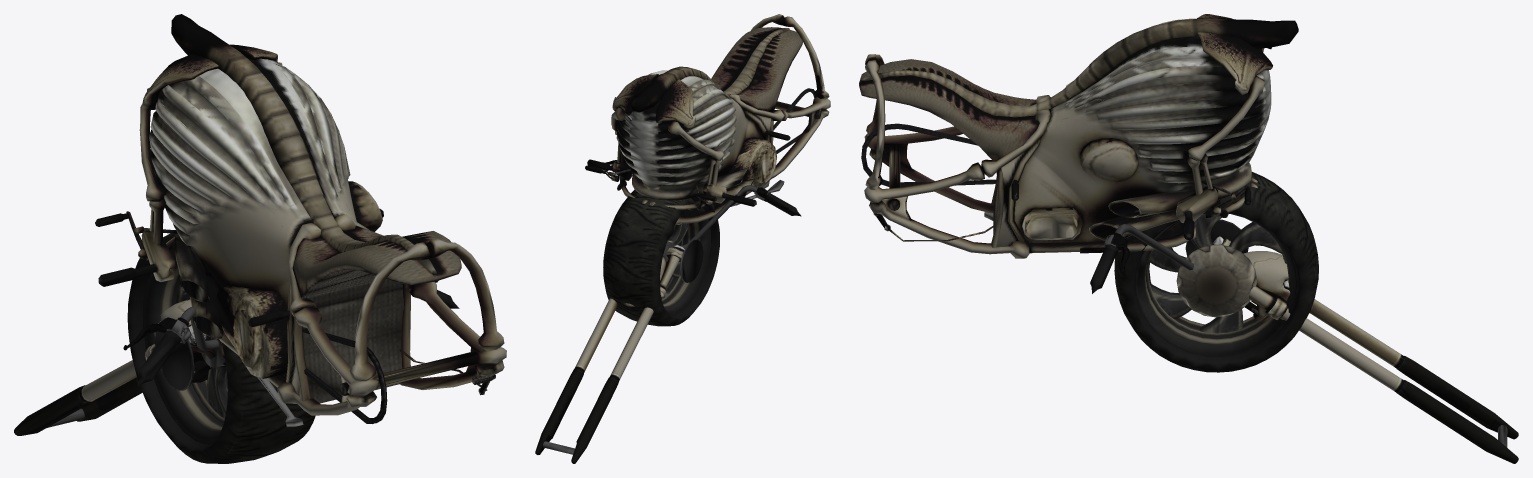
File: GhostRider.fbx
The picture shows the model from 3 angles, left to right: view 1: azimuth 30°, elevation 25°; view 2: azimuth 150°, elevation 25°; view 3: azimuth 270°, elevation 25°; orthographic projection. The views are drawn at different scales.
Parts seen in each view (by area): view 1: gr_Body, gr_WheelRear, gr_Seat, gr_FenderRear, gr_Muffler, gr_Fork, gr_RearSuspension, gr_Steering, gr_GasTank, gr_WheelFront, gr_DiscRear; view 2: gr_Body, gr_WheelRear, gr_Fork, gr_FenderRear, gr_Seat, gr_GasTank, gr_Muffler, gr_Steering, gr_RearSuspension, gr_DiscRear, gr_WheelFront; view 3: gr_Body, gr_WheelRear, gr_Fork, gr_FenderRear, gr_Seat, gr_GasTank, gr_Steering, gr_Muffler, gr_Headlight, gr_RearSuspension, gr_WheelFront, gr_BrakeRear.
Part boxes in pixels (left/top/right/bottom): gr_Body: left=95, top=58, right=506, bottom=426; gr_WheelRear: left=127, top=233, right=315, bottom=463; gr_Seat: left=171, top=14, right=437, bottom=275; gr_FenderRear: left=292, top=225, right=461, bottom=298; gr_Muffler: left=215, top=285, right=287, bottom=378; gr_Fork: left=14, top=324, right=225, bottom=435; gr_RearSuspension: left=349, top=238, right=504, bottom=381; gr_Steering: left=123, top=290, right=459, bottom=386; gr_GasTank: left=142, top=44, right=282, bottom=109; gr_WheelFront: left=176, top=283, right=227, bottom=423; gr_DiscRear: left=155, top=318, right=194, bottom=390; gr_Body: left=585, top=70, right=830, bottom=224; gr_WheelRear: left=603, top=189, right=719, bottom=326; gr_Fork: left=535, top=247, right=683, bottom=463; gr_FenderRear: left=711, top=27, right=802, bottom=112; gr_Seat: left=629, top=28, right=789, bottom=112; gr_GasTank: left=612, top=74, right=695, bottom=129; gr_Muffler: left=728, top=137, right=776, bottom=187; gr_Steering: left=603, top=160, right=801, bottom=250; gr_RearSuspension: left=751, top=14, right=829, bottom=99; gr_DiscRear: left=680, top=239, right=703, bottom=282; gr_WheelFront: left=662, top=223, right=691, bottom=302; gr_Body: left=861, top=18, right=1271, bottom=258; gr_WheelRear: left=1114, top=172, right=1318, bottom=372; gr_Fork: left=1221, top=237, right=1518, bottom=463; gr_FenderRear: left=859, top=59, right=1039, bottom=161; gr_Seat: left=860, top=18, right=1298, bottom=117; gr_GasTank: left=1197, top=14, right=1272, bottom=95; gr_Steering: left=1090, top=224, right=1289, bottom=314; gr_Muffler: left=1022, top=207, right=1082, bottom=240; gr_Headlight: left=1243, top=251, right=1312, bottom=318; gr_RearSuspension: left=865, top=54, right=885, bottom=189; gr_WheelFront: left=1146, top=222, right=1286, bottom=336; gr_BrakeRear: left=872, top=196, right=995, bottom=241.
Bounding box in the file's own units: 11.54 × 17.45 × 24.3.
